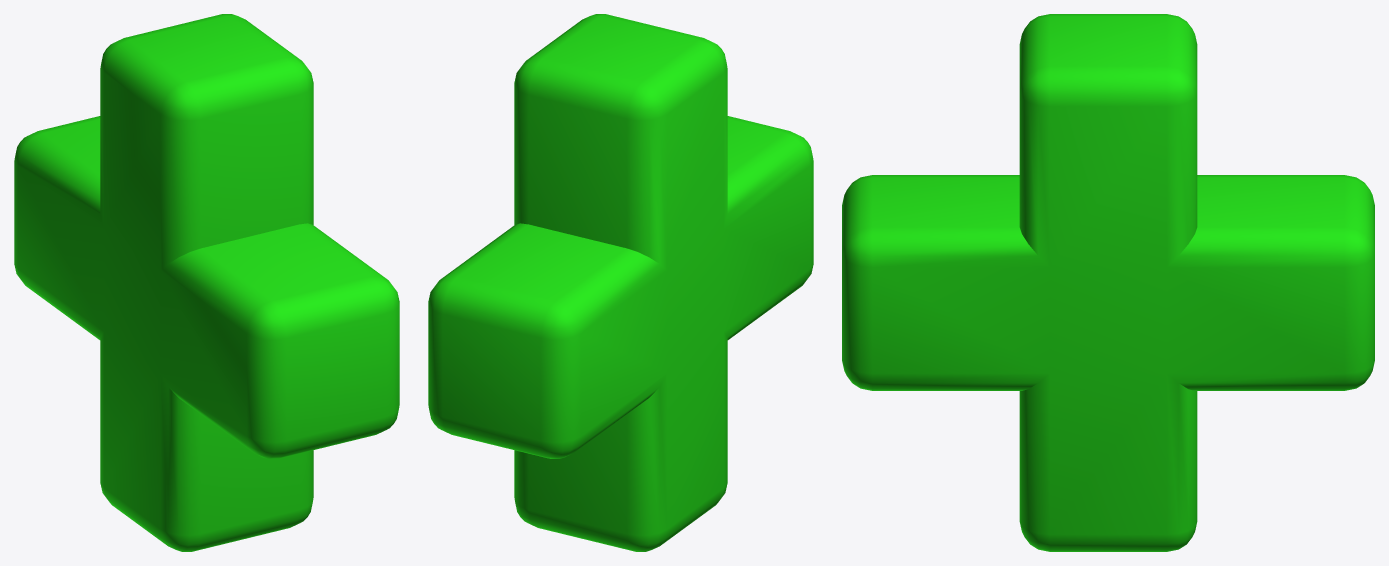
Rendered from HelthPack.fbx.
The picture shows the model from 3 angles, left to right: view 1: azimuth 30°, elevation 25°; view 2: azimuth 150°, elevation 25°; view 3: azimuth 270°, elevation 25°; orthographic projection. The views are drawn at different scales.
Visible parts, largest first — view 1: Cube; view 2: Cube; view 3: Cube.
Boxes of the visible parts, x1,y1,x2,y2 form: Cube: (14, 14, 399, 551); Cube: (428, 14, 813, 551); Cube: (842, 14, 1374, 551).
Bounding box in the file's own units: 12.81 × 38.44 × 38.44.
